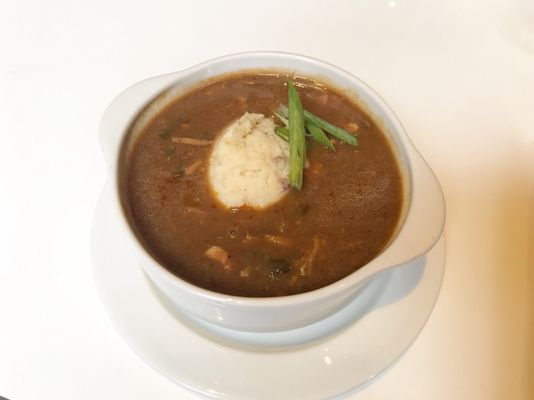sushi: (111, 55, 448, 346)
